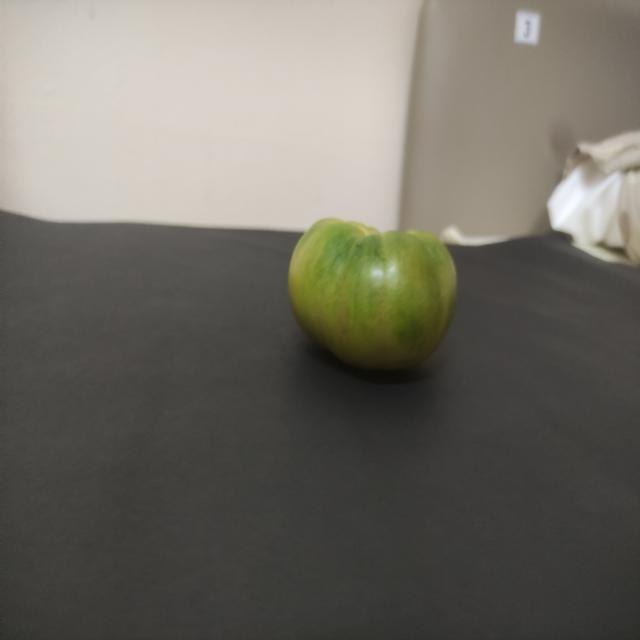yesil: (277, 206, 466, 376)
